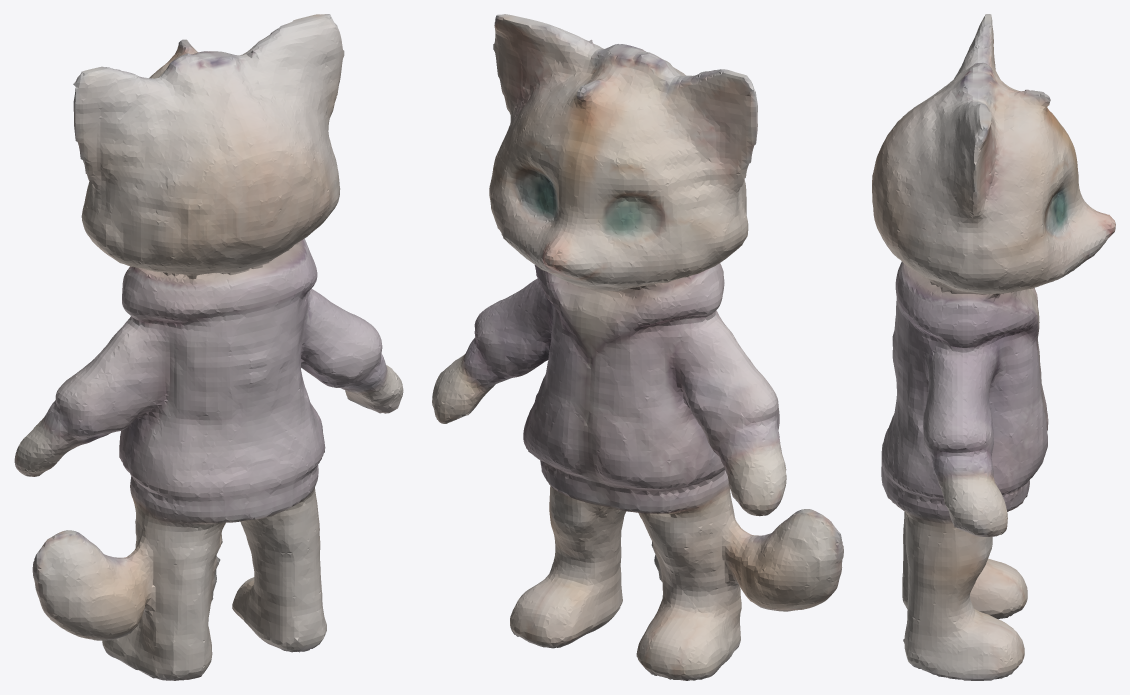
File: milo-instantmesh-grid128.glb
The picture shows the model from 3 angles, left to right: view 1: azimuth 30°, elevation 25°; view 2: azimuth 150°, elevation 25°; view 3: azimuth 270°, elevation 25°; orthographic projection. The views are drawn at different scales.
Visible parts, largest first — view 1: world; view 2: world; view 3: world.
Part boxes in pixels (<box>): world: <box>14,14,403,680</box>; world: <box>432,14,843,680</box>; world: <box>872,14,1115,680</box>.
Bounding box in the file's own units: 1.33 × 1.99 × 0.7757.
